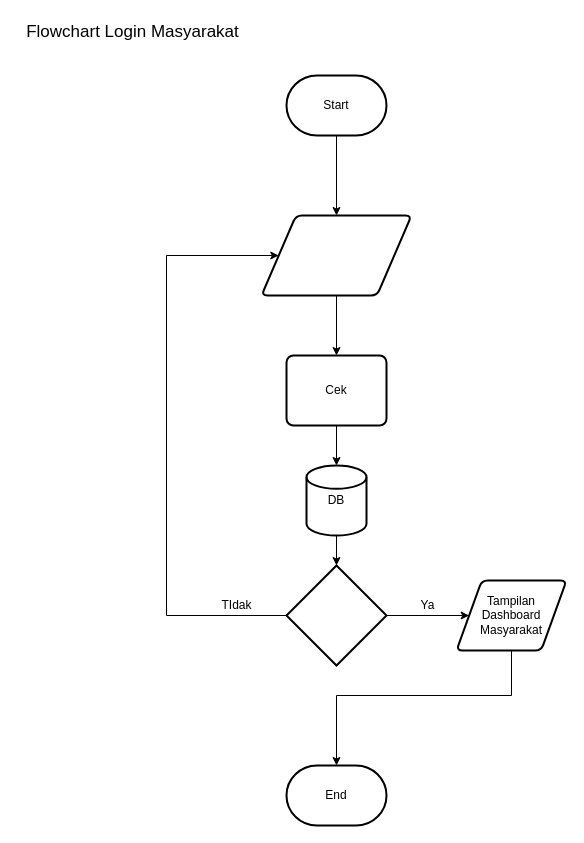
This 584x843 diagram has some shape labels left out. The box of each missing label's shape, as (x1, y1, x2, y2) in pixels:
Masukkan Username dan Passoword: (260, 214, 412, 296)
OK: (285, 564, 387, 666)
